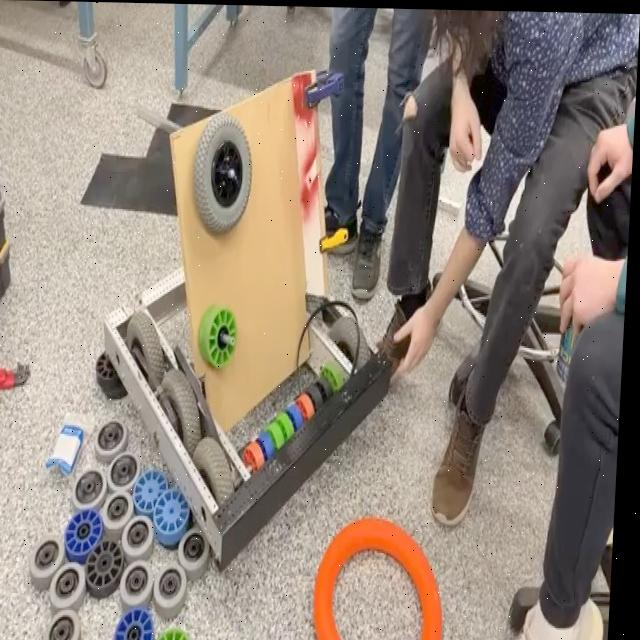note: (316, 510, 456, 640)
